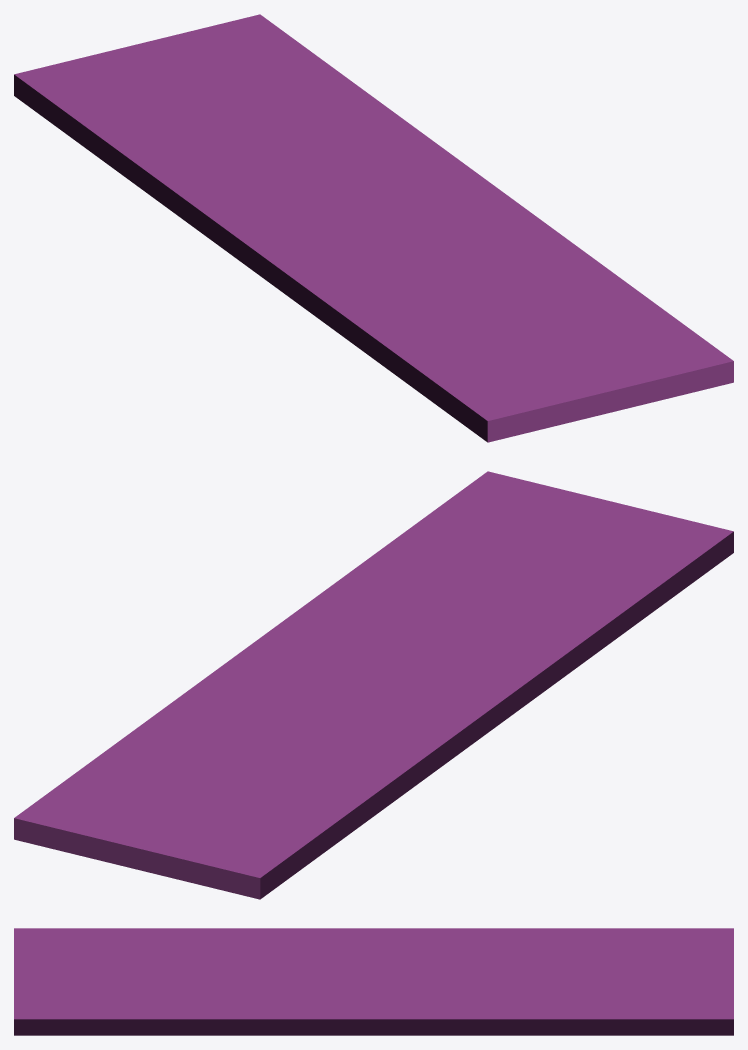
The model's file is cuboRosa_5.FBX.
3 views of the same model, one above another, from view 1: azimuth 30°, elevation 25°; view 2: azimuth 150°, elevation 25°; view 3: azimuth 270°, elevation 25° (orthographic). The views are drawn at different scales.
Visible parts, largest first — view 1: Box001; view 2: Box001; view 3: Box001.
Part boxes in pixels (x1,y1,x2,y2): Box001: (14,14,733,442); Box001: (14,471,733,899); Box001: (14,928,733,1035).
Size of the model in its own units: 3 by 0.25 by 10.
